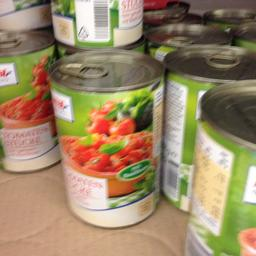tomato_sauce: (46, 50, 162, 228), (180, 78, 254, 255), (0, 28, 58, 174)
